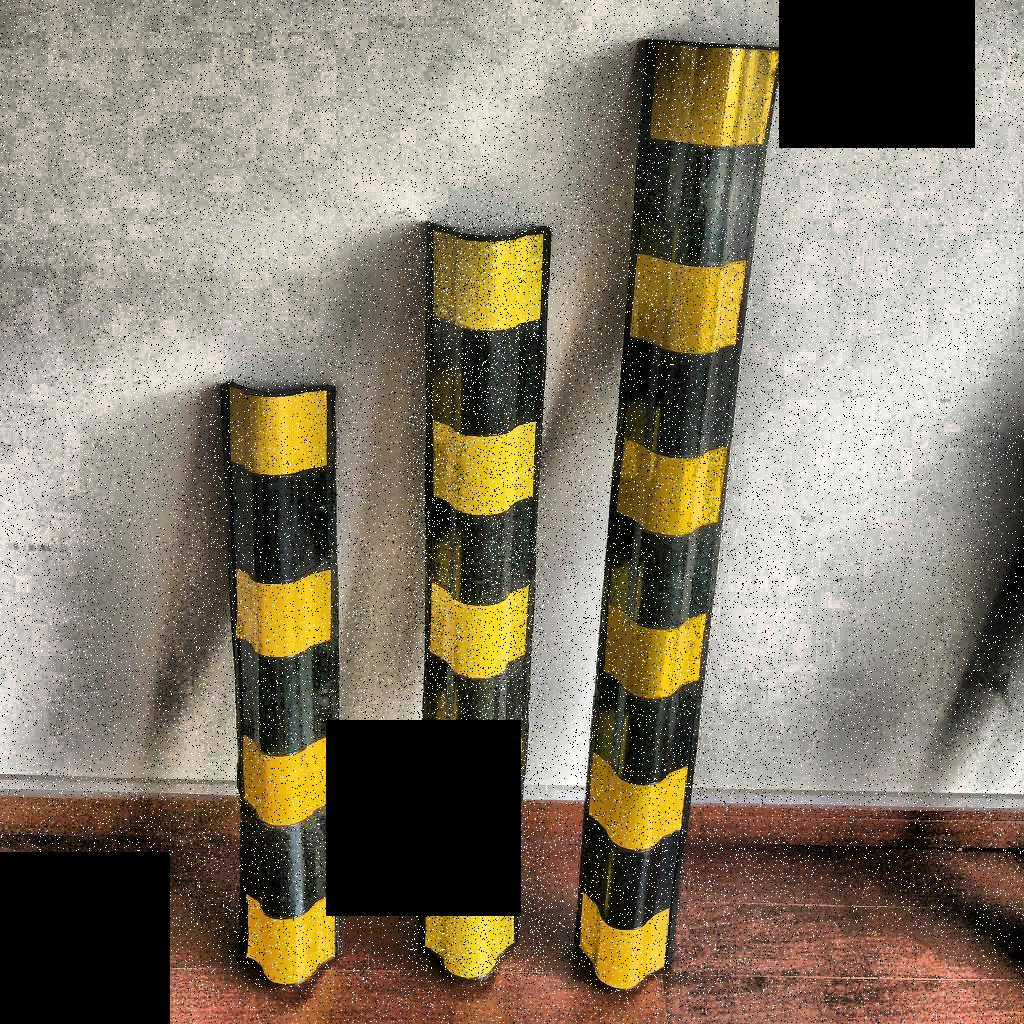bench: (559, 36, 793, 999), (196, 359, 375, 992), (407, 209, 547, 978)
